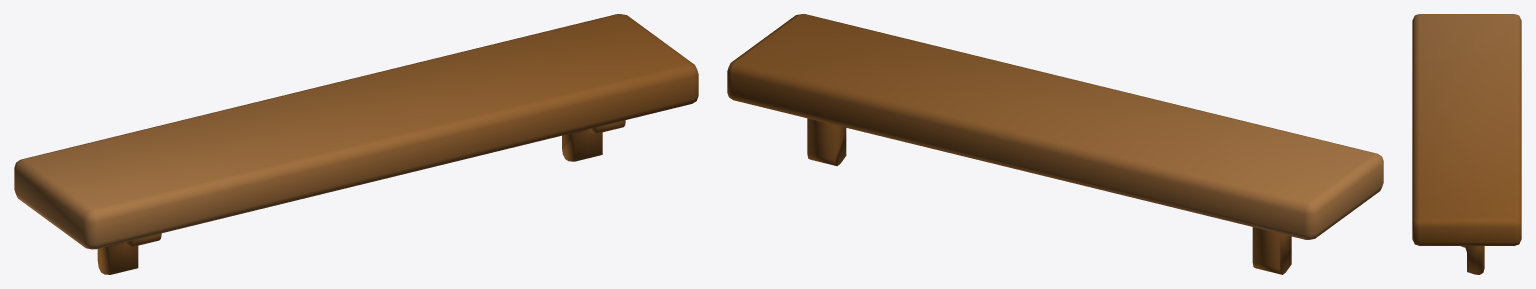
Rendered from Shelf_1.fbx.
The picture shows the model from 3 angles, left to right: view 1: azimuth 30°, elevation 25°; view 2: azimuth 150°, elevation 25°; view 3: azimuth 270°, elevation 25°; orthographic projection. The views are drawn at different scales.
Visible parts, largest first — view 1: Shelf_1; view 2: Shelf_1; view 3: Shelf_1.
Boxes of the visible parts, x1,y1,x2,y2 form: Shelf_1: (14,14,698,274); Shelf_1: (727,14,1383,274); Shelf_1: (1412,14,1521,274).
Bounding box in the file's own units: 1.16 × 0.194 × 0.2556.
